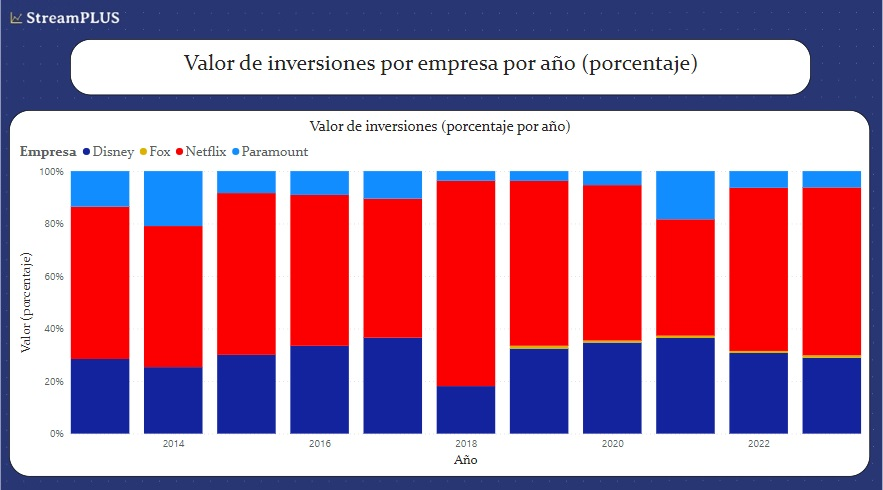

The page's visual inventory and layout, read from the dashboard file:
{"tool":"powerbi","page":{"name":"Valor inversiones por año (porcentaje)","canvas":[1280,720],"ordinal":7},"visuals":[{"type":"image","box":[0,0,1280,720],"z":0},{"type":"textbox","box":[105.1,63.4,1067,80.6],"z":1000},{"type":"hundredPercentStackedColumnChart","title":"Valor de inversiones (porcentaje por año)","fields":{"Category":["Calendario.Año"],"Series":["ok_SyP_empx4.Empresa"],"Y":["Sum(ok_SyP_empx4.Valor transacciones (cierre ajustado))"]},"box":[17.3,165.6,1239.8,528.5],"z":2000}]}

Visuals, with their boxes in screenshot pixels (x1, y1, x2, y2), scaled from the page's 1280x720 canvas onto the 883x490 screenshot:
image: locate(0, 0, 882, 489)
textbox: locate(73, 43, 809, 98)
"Valor de inversiones (porcentaje por año)" hundredPercentStackedColumnChart: locate(12, 113, 867, 472)
